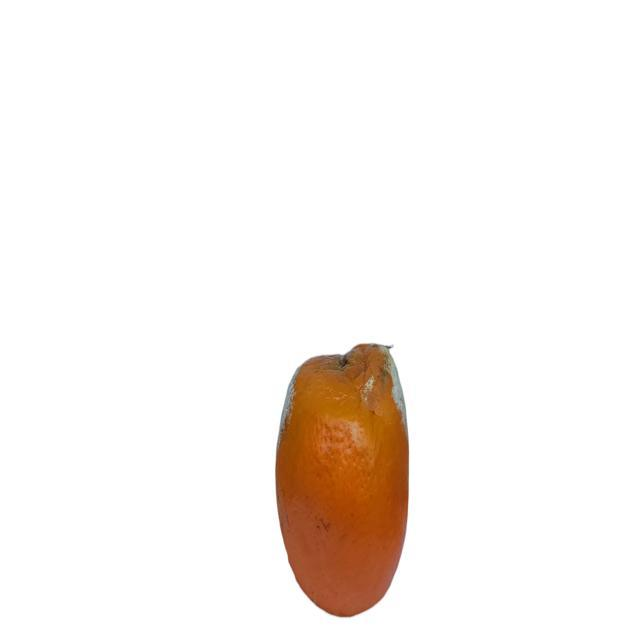rotten orange: (273, 341, 410, 617)
